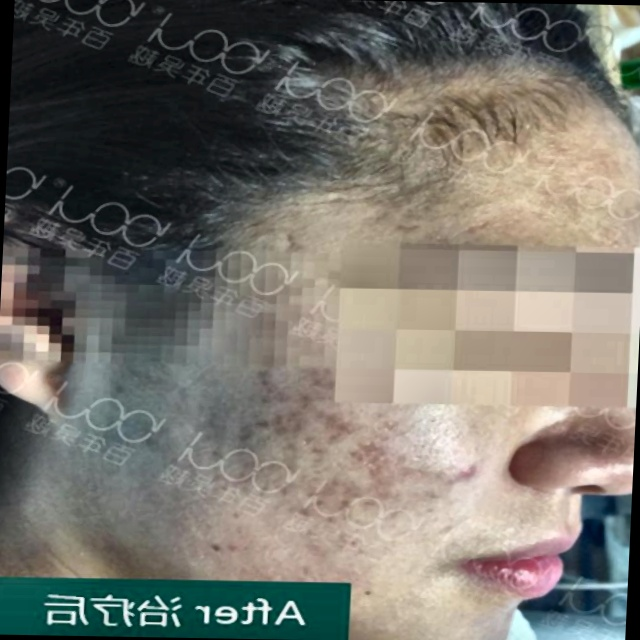comedone: (428, 452, 482, 489)
